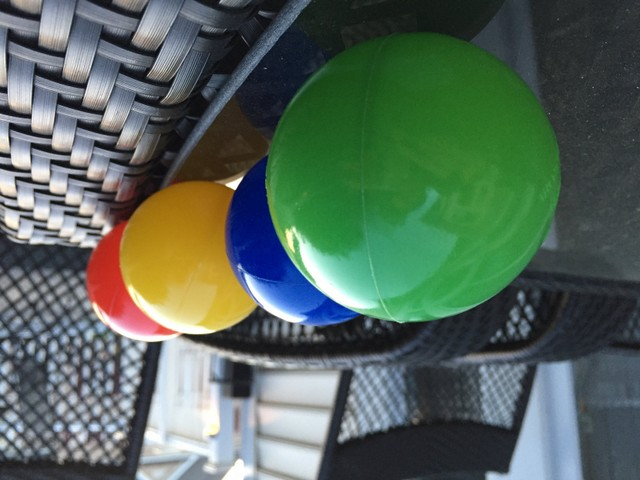Ball: (265, 33, 560, 322)
